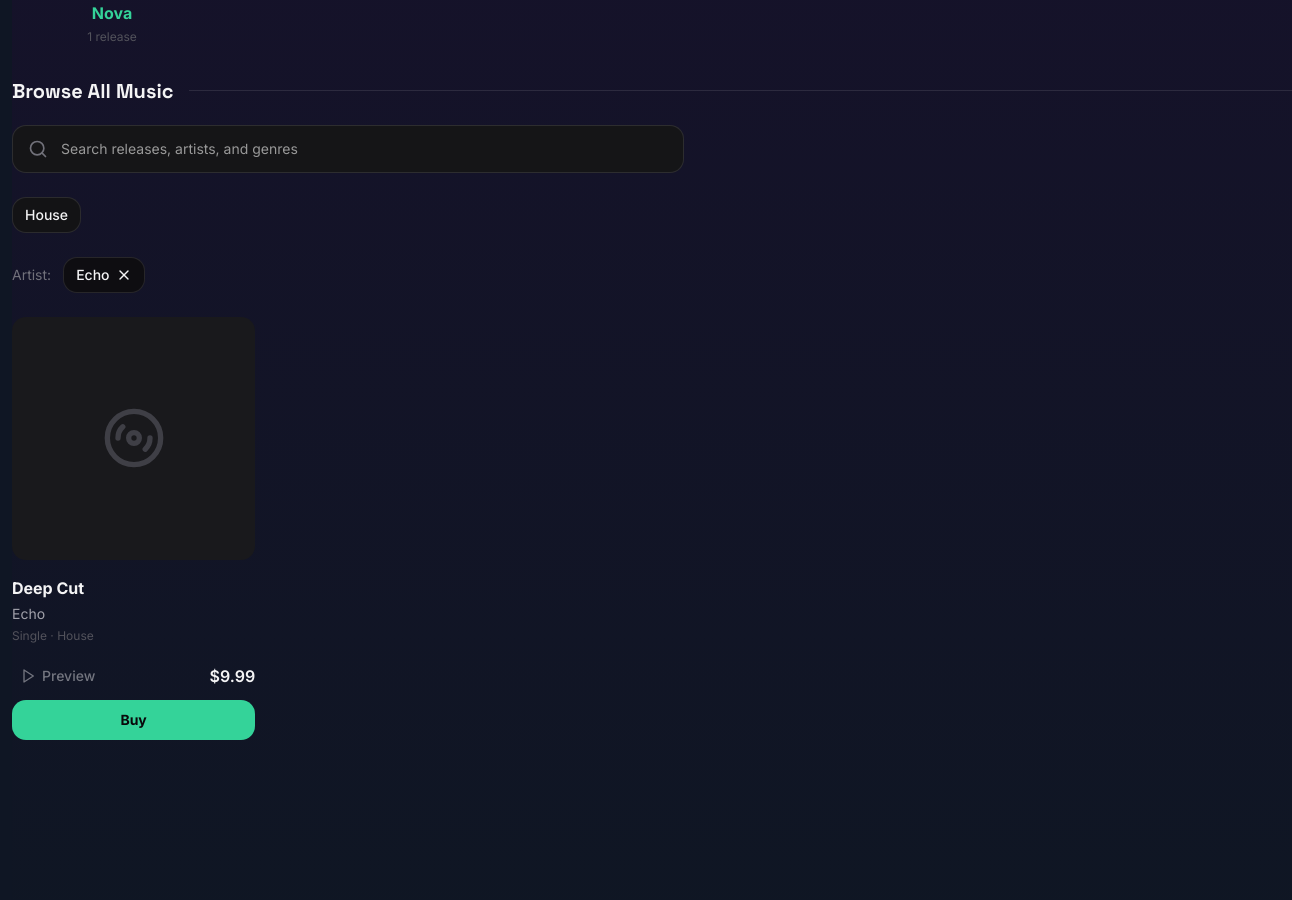
it: MusicOverviewView › applies the artist filter from the URL and lets the user clear it
(page scrolled)
Expected: the heading "Browse All Music" is shown, [12,77,174,105]
Expected: the link "Deep Cut" is shown, [12,578,84,598]
Click the button "Echo": click(104, 275) [63,257,144,293]
(page scrolled)
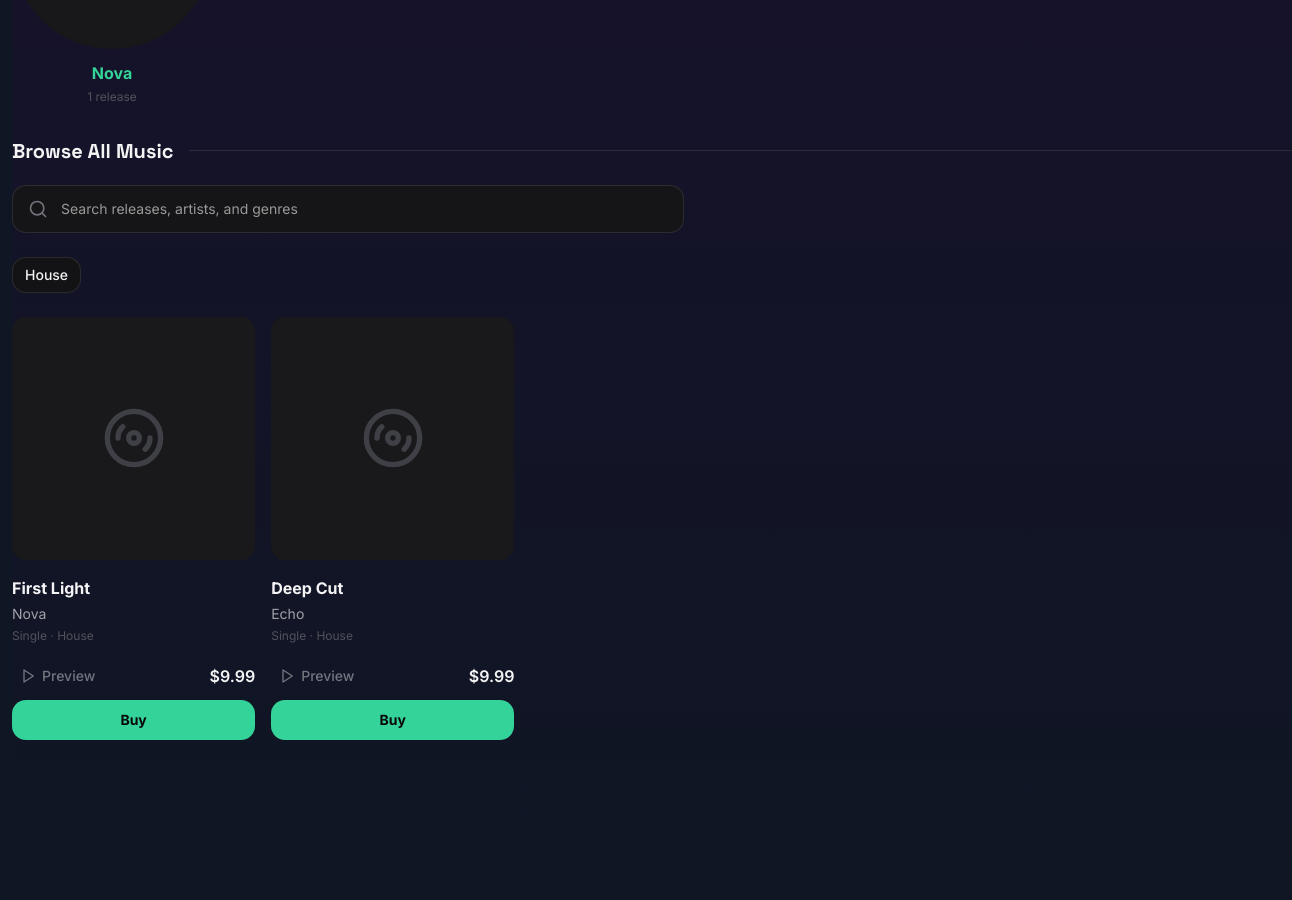
Now the link "First Light" is shown, box [12,578,90,598]
